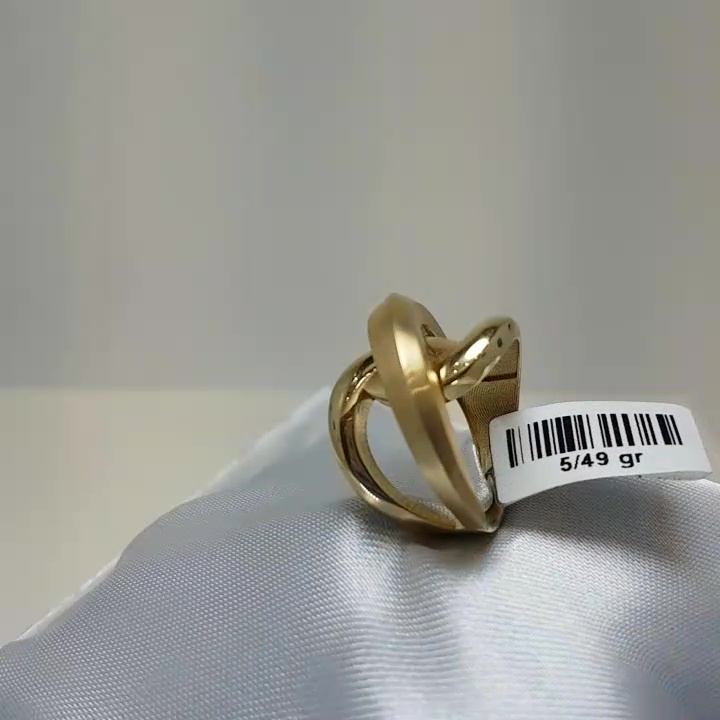Ring 3: (307, 278, 541, 553)
